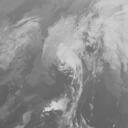cyclone: (45, 19, 101, 120)
